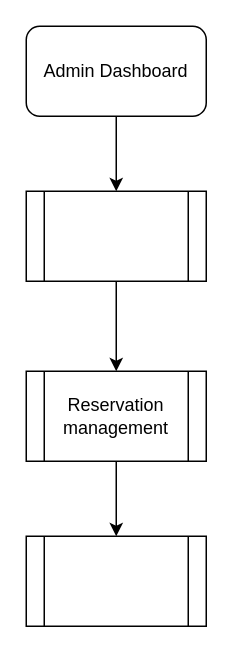
Image size: 233x653. Some labels were removed from this diagram. Each missing label, with the box of its shape:
Room management: (25, 535, 206, 626)
Urgent Notification: (25, 190, 206, 281)
